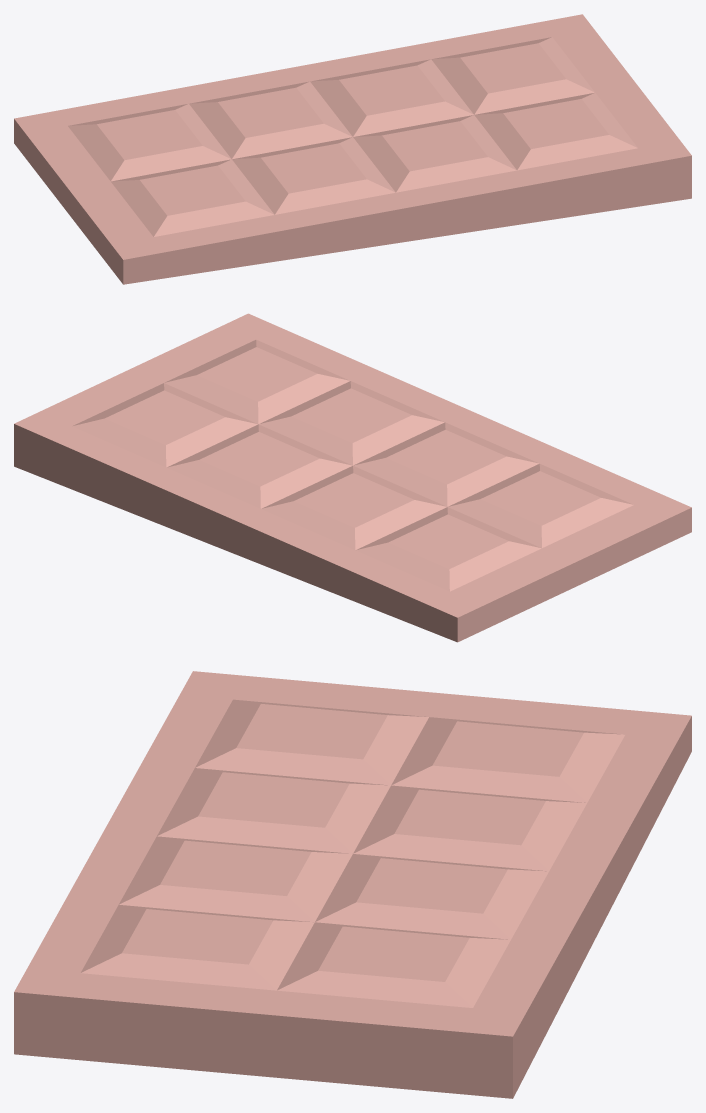
File: Controlador.fbx
The picture shows the model from 3 angles, top to bottom: view 1: azimuth 30°, elevation 25°; view 2: azimuth 150°, elevation 25°; view 3: azimuth 270°, elevation 25°; orthographic projection. The views are drawn at different scales.
Visible parts, largest first — view 1: Controlador; view 2: Controlador; view 3: Controlador.
Part boxes in pixels (box(x1,y1,x2,y2)): Controlador: box(14, 14, 691, 284); Controlador: box(14, 313, 691, 642); Controlador: box(14, 671, 691, 1098).
Size of the model in its own units: 31.55 by 2.92 by 22.44.
